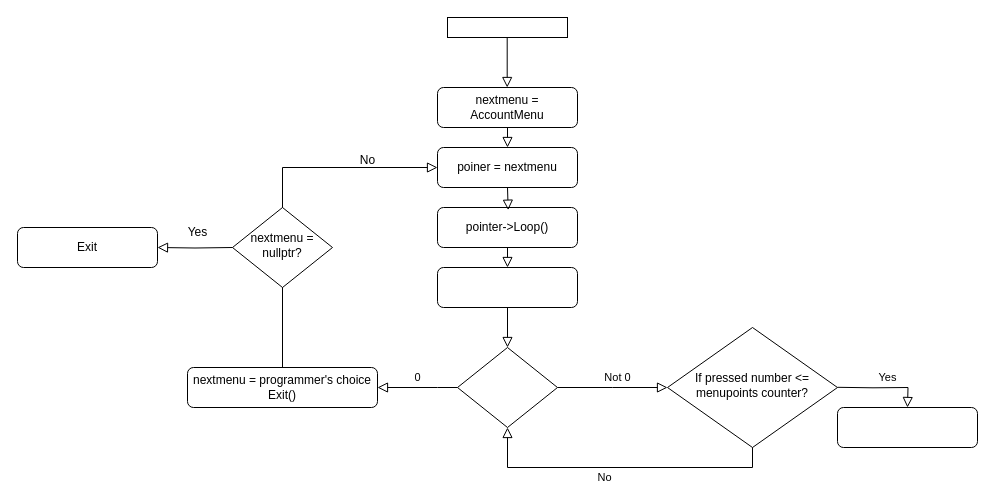
This 995x501 diagram has some shape labels left out. The centre of each missing label's shape, as x and y in pixels:
"DoSubmenuTask()" goes at point 907,427.
"Main" goes at point 507,27.
"MainMenuDisplay()" goes at point 507,287.
"Pressed number?" goes at point 507,387.
